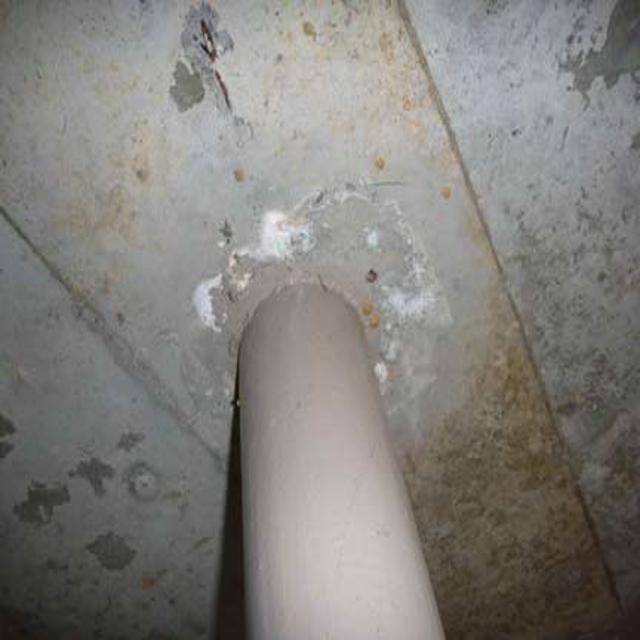freelime: (187, 177, 459, 337)
spalling: (171, 14, 260, 110)
